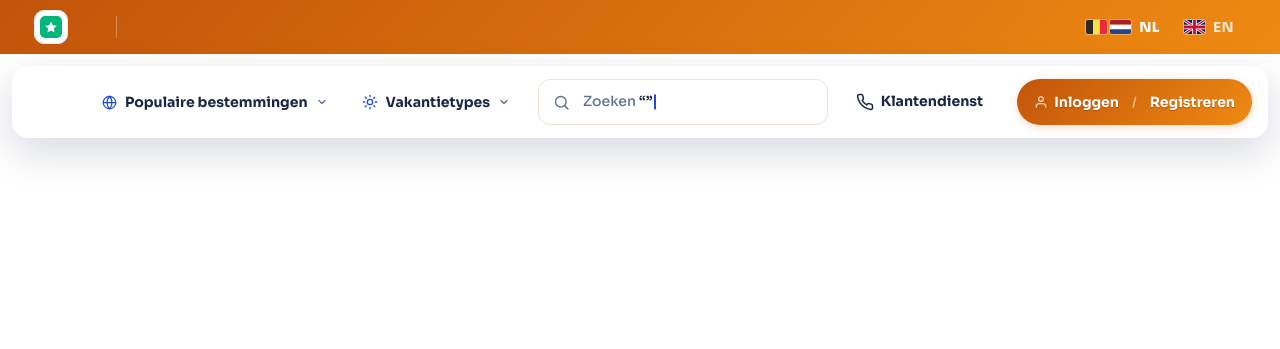
Scenario: with no settings the bar is the bar it always was › draws both browse menus, in their old order, from the homepage and the type list
Click the button "Populaire bestemmingen" at (215, 102), box [98,83,332,121]
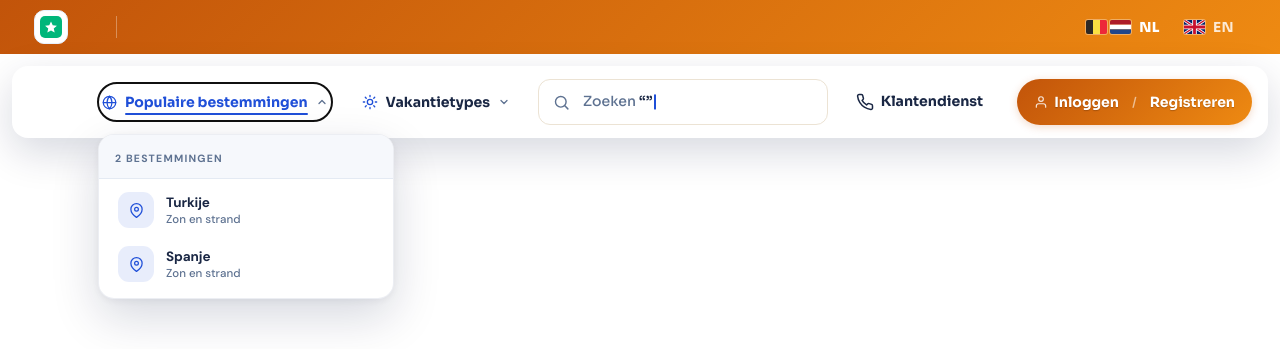
Check: the text "2 bestemmingen" is shown, box [115,152,223,165]
Check: the text "Turkije" is shown, box [166,194,210,211]
Check: the text "Zon en strand" is shown 2 times, box [166,212,240,227]; [166,266,240,281]
# No resolved list from a server: the featured card leads, as before.
Click the button "Vakantietypes" at (436, 102), box [358,83,514,121]
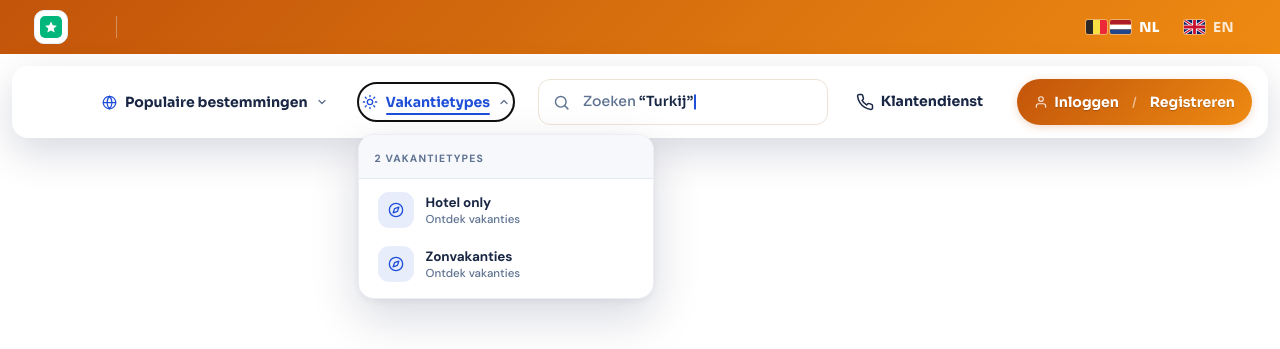
Check: the text "Hotel only" is shown, box [426,194,491,211]
